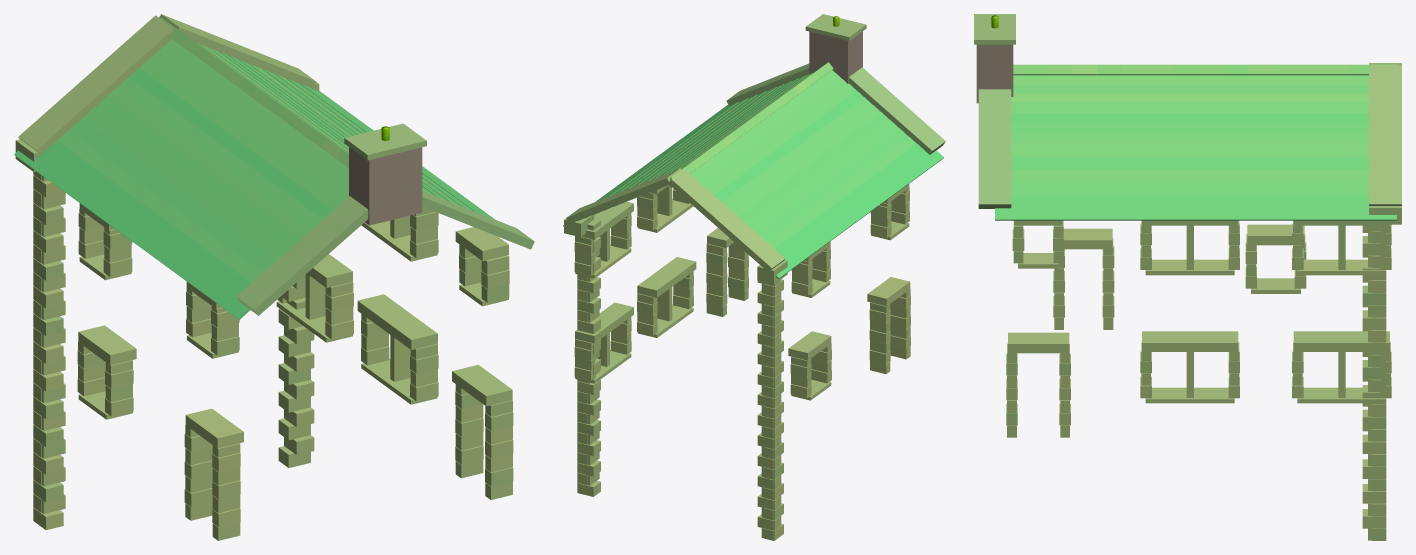
The model's file is SM_Bld_220_Stone.glb.
The picture shows the model from 3 angles, left to right: view 1: azimuth 30°, elevation 25°; view 2: azimuth 150°, elevation 25°; view 3: azimuth 270°, elevation 25°; orthographic projection. The views are drawn at different scales.
Visible parts, largest first — view 1: SM_Bld_220_Stone; view 2: SM_Bld_220_Stone; view 3: SM_Bld_220_Stone.
Part boxes in pixels (x1,y1,x2,y2): SM_Bld_220_Stone: (14, 14, 534, 540); SM_Bld_220_Stone: (563, 14, 945, 540); SM_Bld_220_Stone: (974, 14, 1401, 540).
Bounding box in the file's own units: 6.67 × 11.25 × 9.38.
